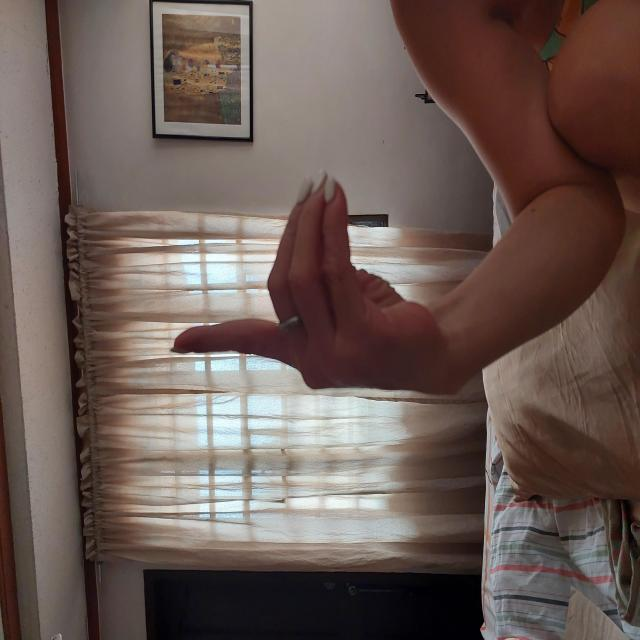D: (244, 168, 473, 444)
